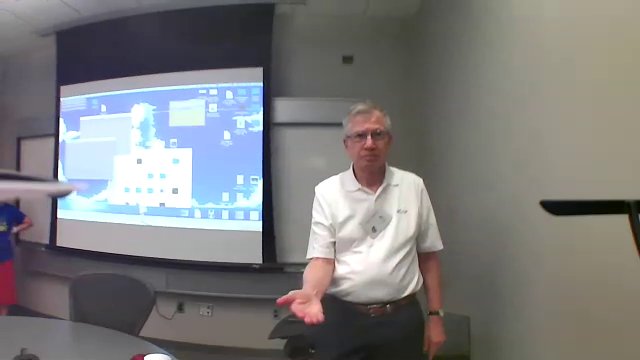land: (270, 283, 340, 333)
